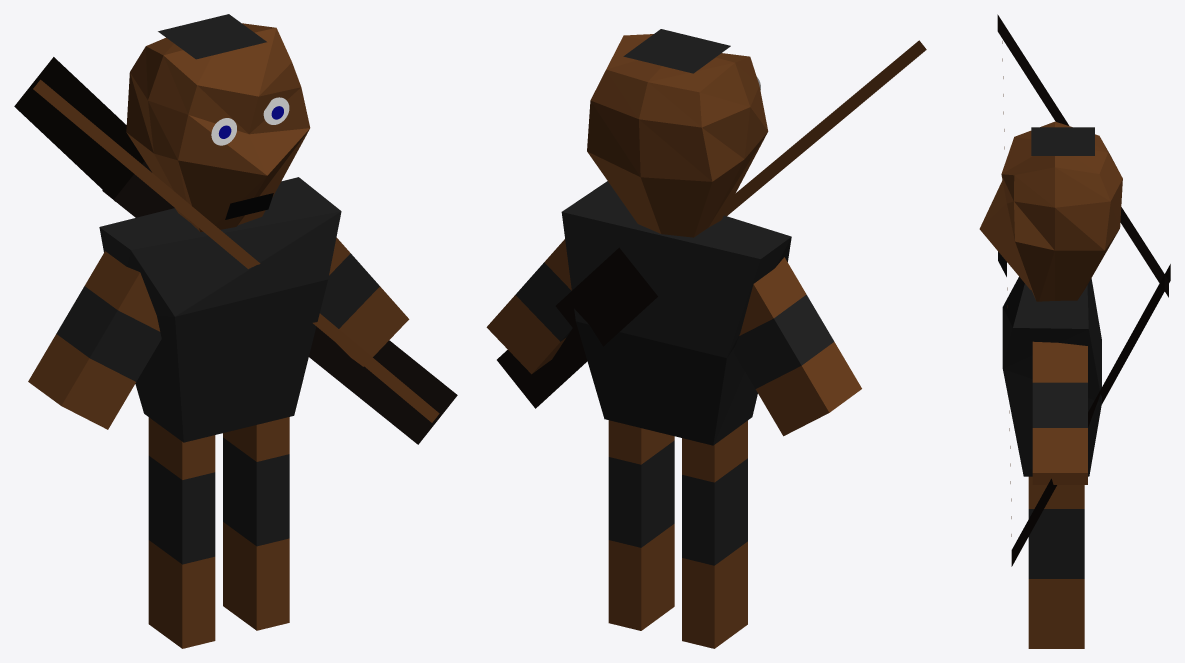
The model's file is archer1.obj.
3 views of the same model, side by side, from view 1: azimuth 30°, elevation 25°; view 2: azimuth 150°, elevation 25°; view 3: azimuth 270°, elevation 25° (orthographic). The views are drawn at different scales.
Parts seen in each view (by area): view 1: Cube.001, Cube, Cube.004, Cube.003, Cube.005, Plane.001_Plane.002, Plane.002_Plane.003, Plane.003_Plane.004, Cube.002, Plane.004_Plane.001, Plane; view 2: Cube.001, Cube, Cube.004, Cube.005, Cube.003, Plane.001_Plane.002, Cube.002, Plane.003_Plane.004, Plane.004_Plane.001; view 3: Cube, Cube.001, Cube.005, Cube.002, Plane.001_Plane.002, Plane.002_Plane.003, Plane.004_Plane.001.
Part boxes in pixels (x1=…): Cube.001: x1=99, y1=177, x2=341, y2=442; Cube: x1=126, y1=23, x2=310, y2=231; Cube.004: x1=148, y1=417, x2=215, y2=648; Cube.003: x1=28, y1=251, x2=161, y2=429; Cube.005: x1=223, y1=417, x2=289, y2=630; Plane.001_Plane.002: x1=102, y1=161, x2=457, y2=444; Plane.002_Plane.003: x1=14, y1=57, x2=144, y2=201; Plane.003_Plane.004: x1=33, y1=79, x2=439, y2=422; Cube.002: x1=320, y1=237, x2=409, y2=366; Plane.004_Plane.001: x1=158, y1=14, x2=266, y2=59; Plane: x1=225, y1=193, x2=273, y2=219; Cube.001: x1=561, y1=181, x2=791, y2=445; Cube: x1=587, y1=34, x2=768, y2=237; Cube.004: x1=682, y1=420, x2=747, y2=648; Cube.005: x1=608, y1=420, x2=674, y2=630; Cube.003: x1=734, y1=257, x2=861, y2=436; Plane.001_Plane.002: x1=497, y1=247, x2=657, y2=408; Cube.002: x1=486, y1=239, x2=572, y2=374; Plane.003_Plane.004: x1=724, y1=40, x2=926, y2=216; Plane.004_Plane.001: x1=623, y1=29, x2=730, y2=73; Cube: x1=979, y1=121, x2=1122, y2=301; Cube.001: x1=1002, y1=277, x2=1101, y2=476; Cube.005: x1=1028, y1=476, x2=1084, y2=648; Cube.002: x1=1032, y1=341, x2=1087, y2=484; Plane.001_Plane.002: x1=1011, y1=264, x2=1170, y2=566; Plane.002_Plane.003: x1=997, y1=14, x2=1168, y2=297; Plane.004_Plane.001: x1=1031, y1=127, x2=1094, y2=155.
Size of the model in its own units: 4.75 by 6.44 by 2.1.
